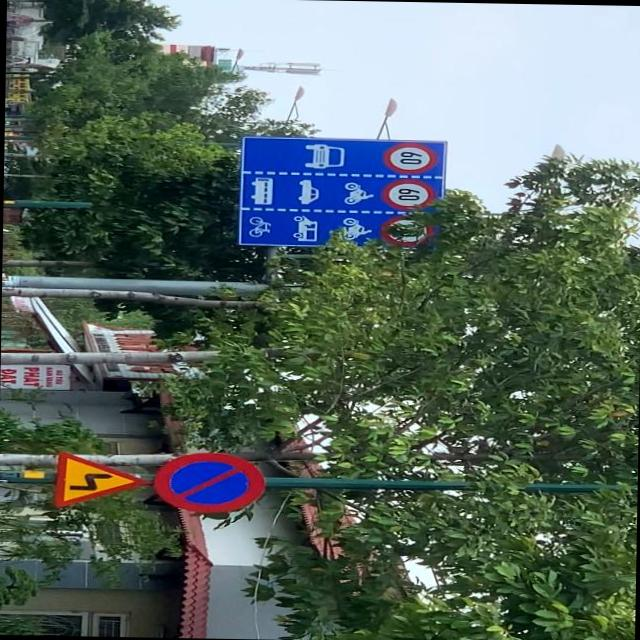P-131a: (153, 449, 264, 514)
W-202a: (50, 450, 149, 508)
